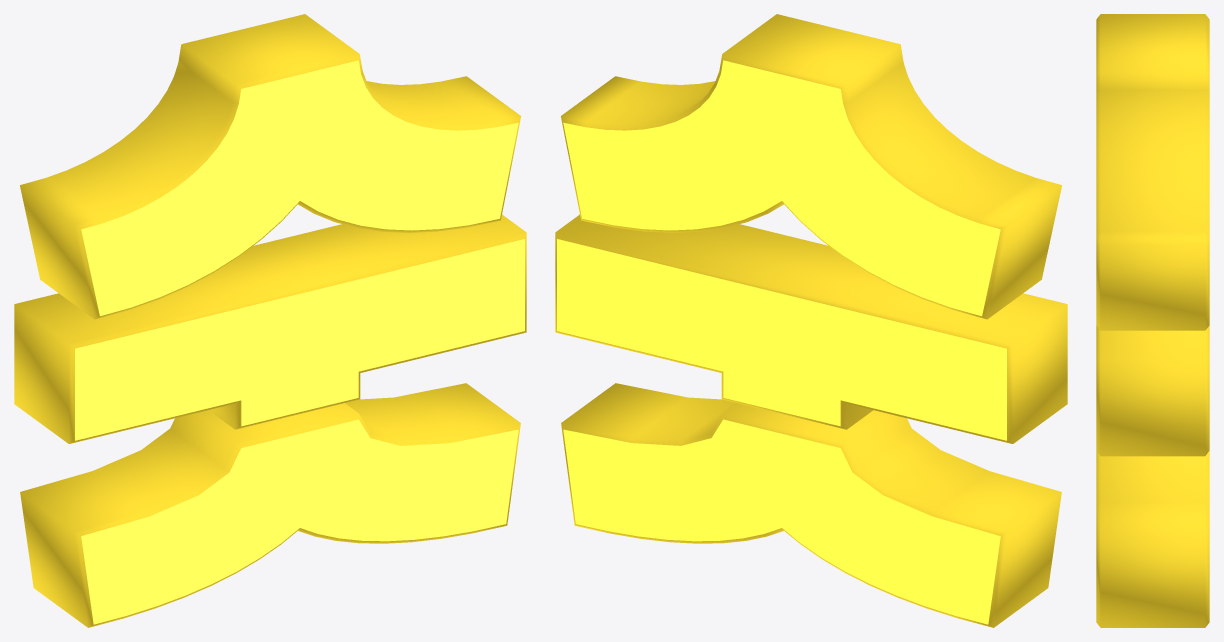
3 views of the same model, side by side, from view 1: azimuth 30°, elevation 25°; view 2: azimuth 150°, elevation 25°; view 3: azimuth 270°, elevation 25° (orthographic). The views are drawn at different scales.
Visible parts, largest first — view 1: glyph; view 2: glyph; view 3: glyph.
Part boxes in pixels (x1,y1,x2,y2): glyph: [14, 14, 526, 627]; glyph: [555, 14, 1067, 627]; glyph: [1096, 14, 1209, 627].
Size of the model in its own units: 0.0726 by 0.077 by 0.0162.
